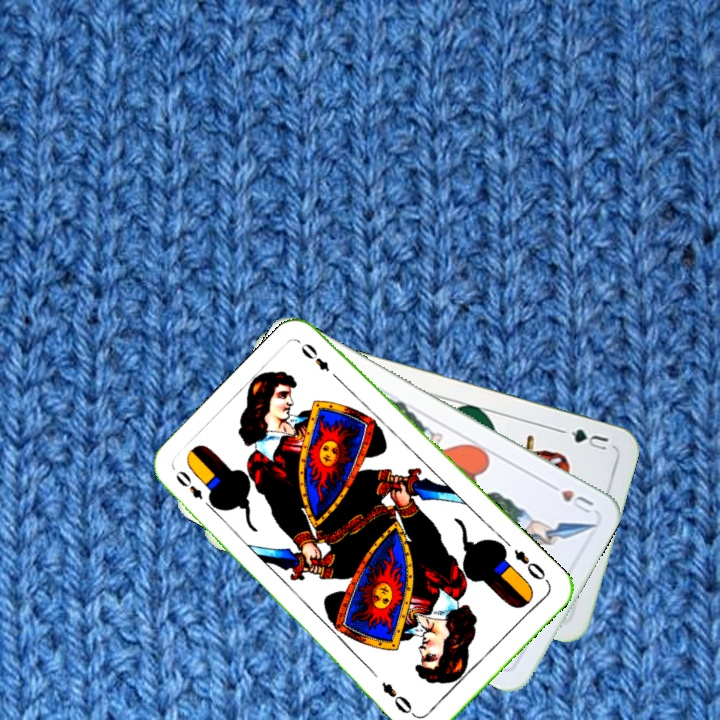EO: (171, 466, 218, 513), (510, 545, 548, 583)
GU: (567, 424, 611, 453)
HU: (543, 478, 596, 516)
